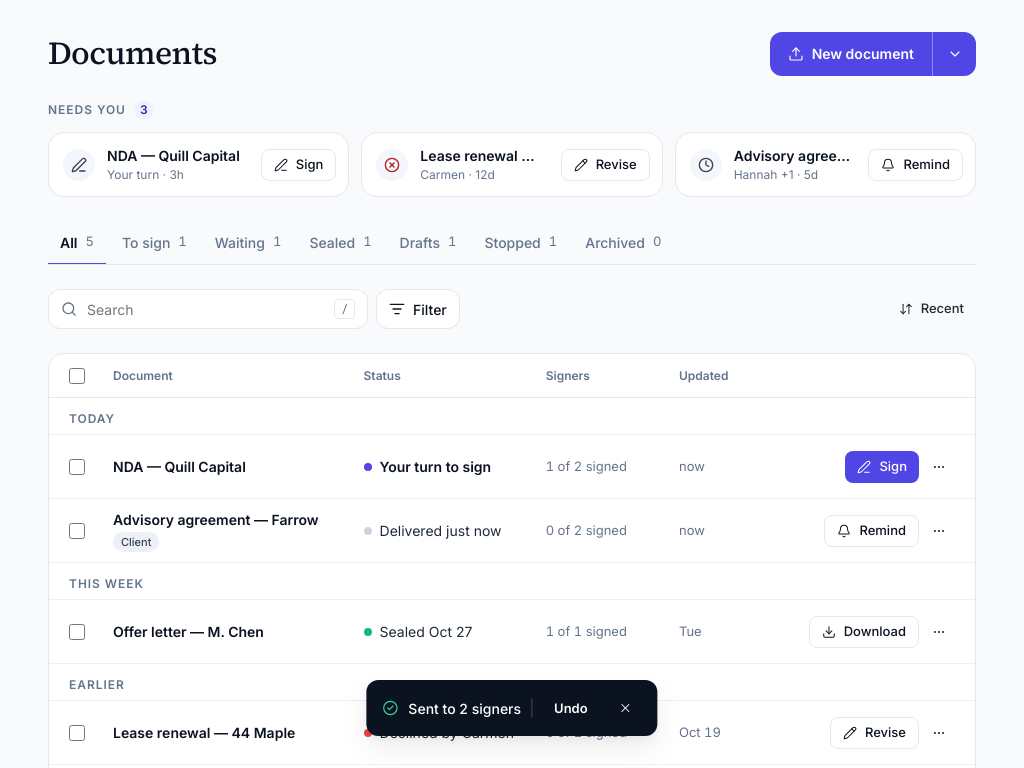
Test: DashboardPage after Send › says so when it is too late to undo
The image size is (1024, 768).
Check: the text "Sent to 2 signers" is shown, box [408,698,521,718]
Click the button "Undo" at {"x": 571, "y": 708}, box [542,692,600,724]
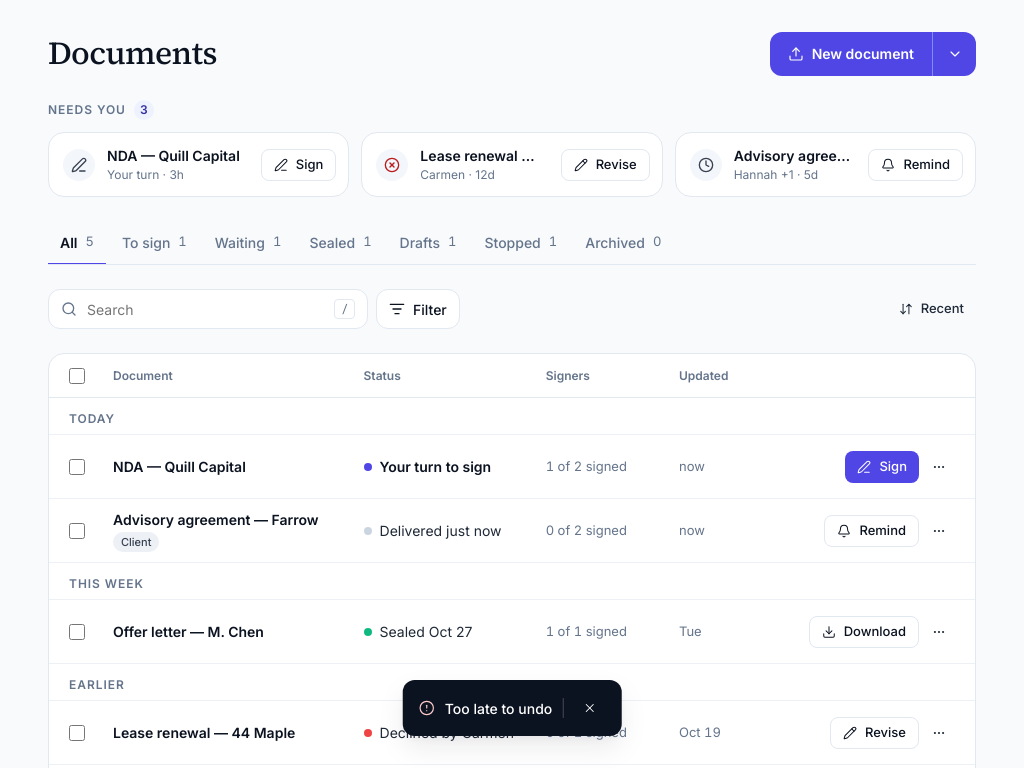
Check: the text "Too late to undo" is shown, box [445,698,552,718]
